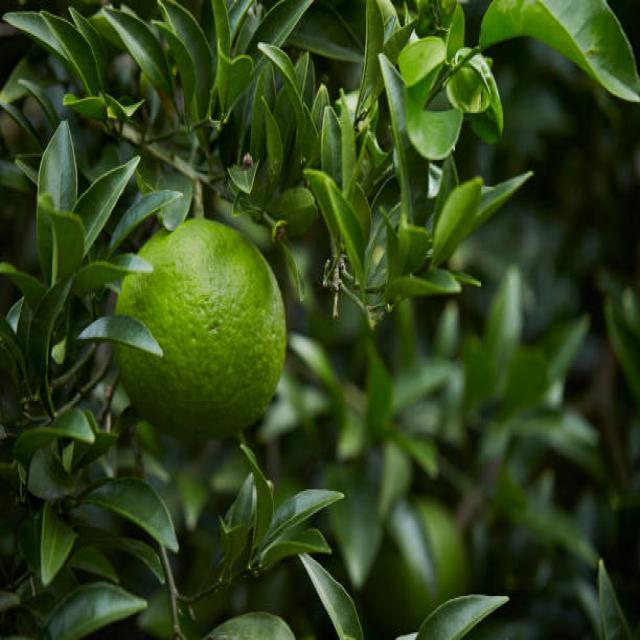Unripe: (110, 215, 286, 445)
